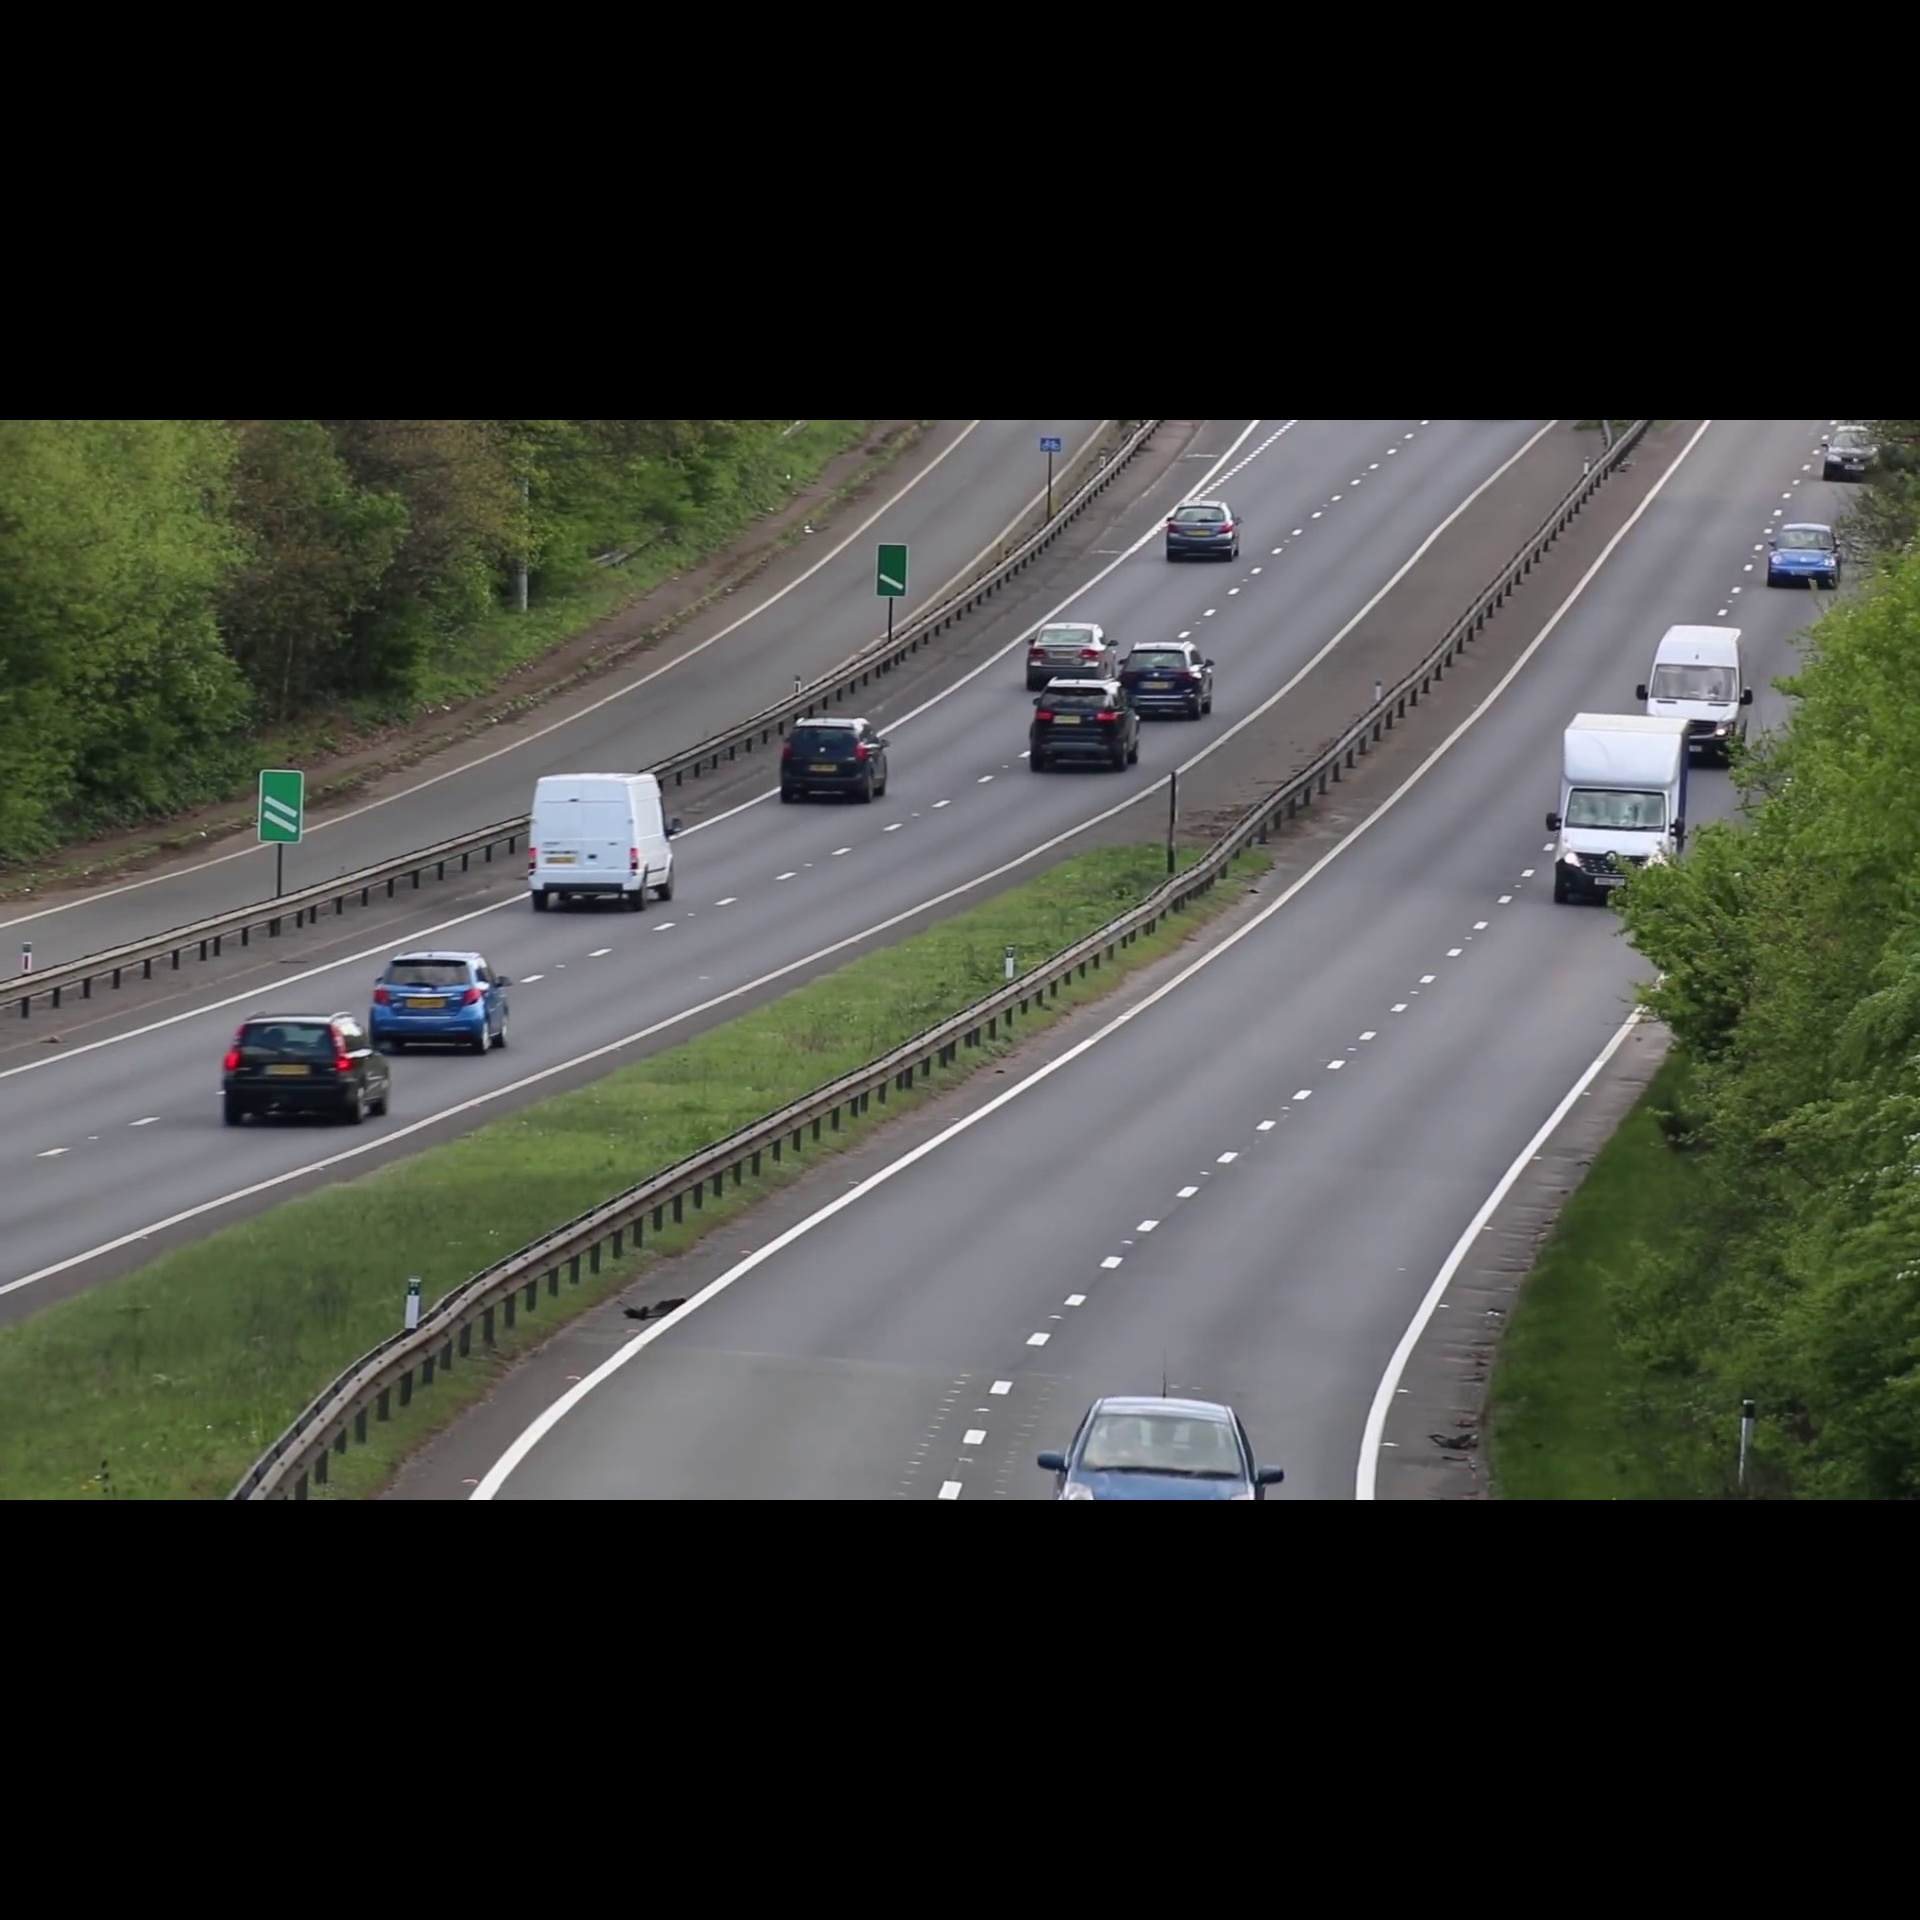vehicle: (1034, 1378, 1285, 1502), (1544, 714, 1690, 918), (519, 765, 684, 918), (215, 1009, 396, 1131), (366, 949, 522, 1060), (1656, 621, 1760, 761), (1022, 679, 1143, 777), (775, 712, 895, 805), (1124, 636, 1218, 719), (1758, 517, 1850, 591), (1023, 615, 1118, 679), (1162, 496, 1247, 563), (1818, 424, 1892, 484)
